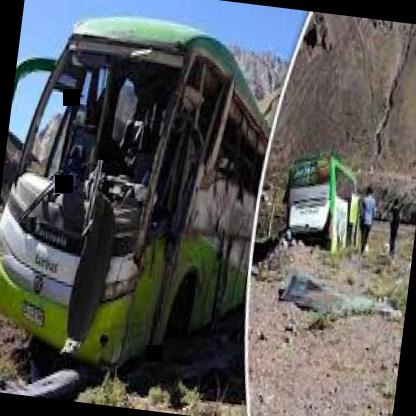accident: (0, 1, 262, 381)
